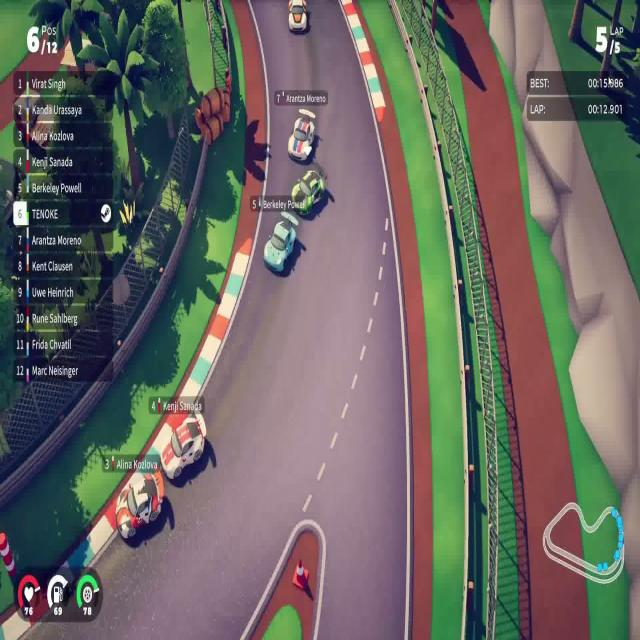car: (114, 465, 164, 542), (160, 409, 207, 480), (262, 210, 298, 274), (290, 168, 326, 216), (287, 112, 315, 162)
